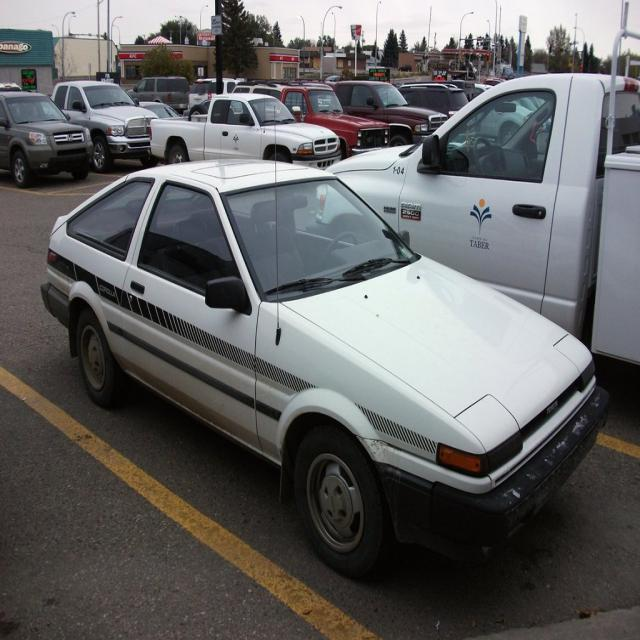car: (39, 103, 610, 578)
